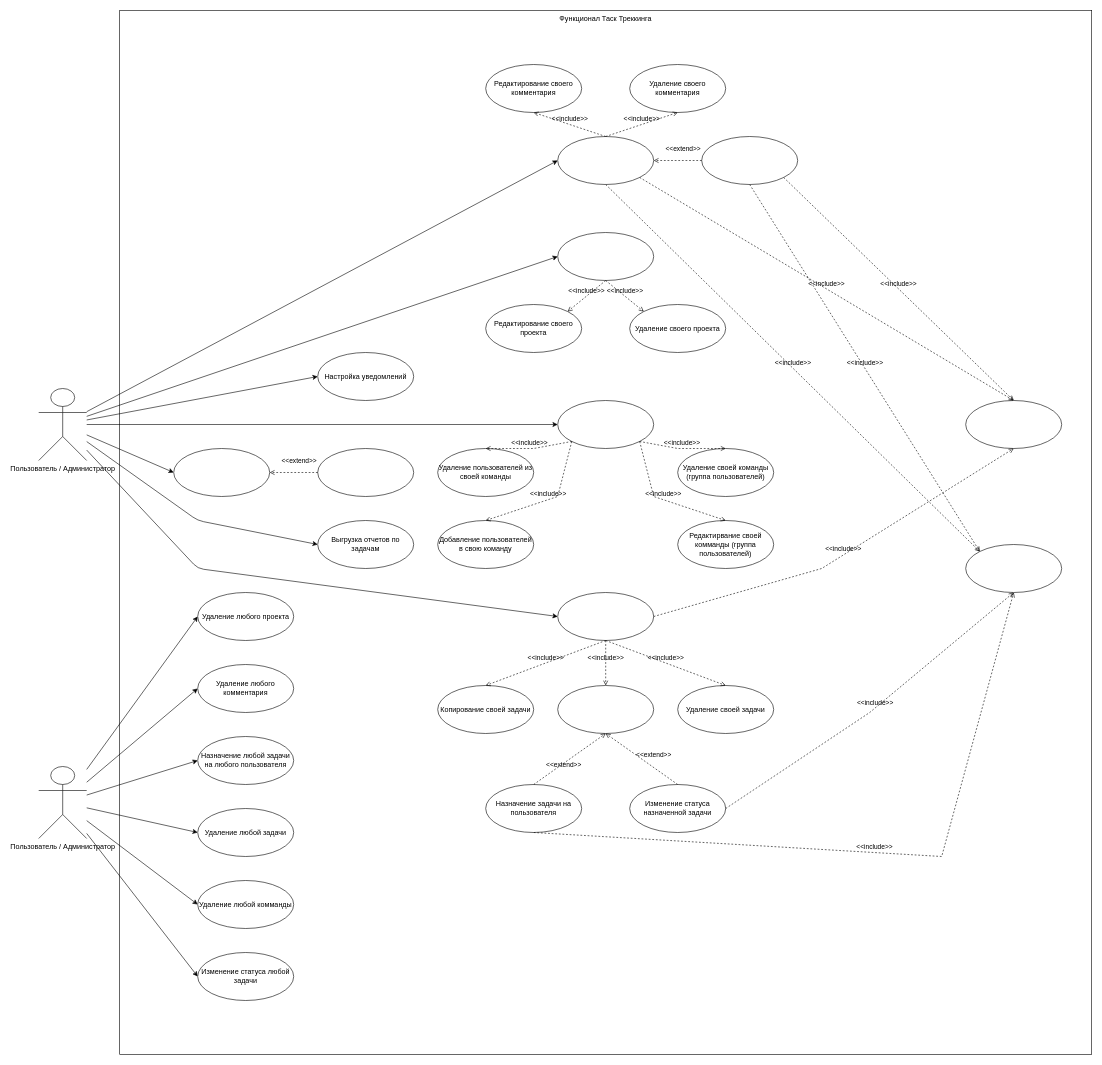
This 1102x1065 diagram has some shape labels left out. The box of each missing label's shape, as (x1, y1, x2, y2) in pixels:
Добавление комментария к задаче: (557, 136, 654, 184)
Ответ на комментарий: (701, 136, 798, 184)
Отправка уведомления: (965, 544, 1062, 592)
Поиск задач: (317, 448, 414, 496)
Прикрепление вложений: (965, 400, 1062, 448)
Просмотр задач (Kanban, список и т.п.): (173, 448, 270, 496)
Редактирование своей задачи: (557, 685, 654, 734)
Создание комманды (группа пользователей): (557, 400, 654, 448)
Создание проекта: (557, 232, 654, 280)
Создание своей задачи: (557, 592, 654, 640)
